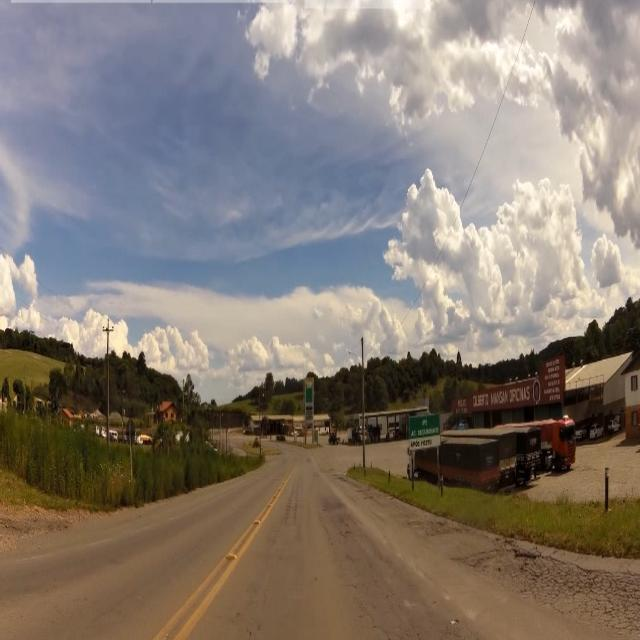I-4: (410, 416, 440, 435)
